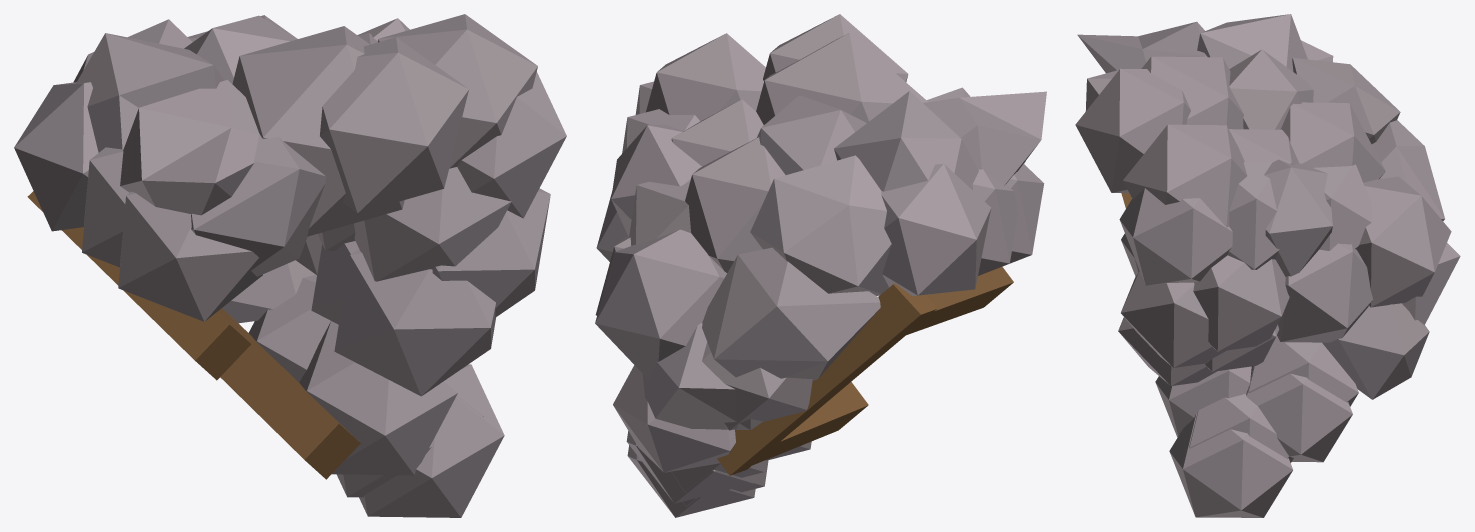
Rendered from mine.fbx.
3 renders of one model, left to right at view 1: azimuth 30°, elevation 25°; view 2: azimuth 150°, elevation 25°; view 3: azimuth 270°, elevation 25°, orthographic. The views are drawn at different scales.
Visible parts, largest first — view 1: Cube; view 2: Cube; view 3: Cube.
Boxes of the visible parts, left/top/right/bottom form: Cube: left=14, top=14, right=566, bottom=517; Cube: left=595, top=14, right=1046, bottom=517; Cube: left=1075, top=14, right=1460, bottom=517.
Size of the model in its own units: 119 by 131 by 110.
